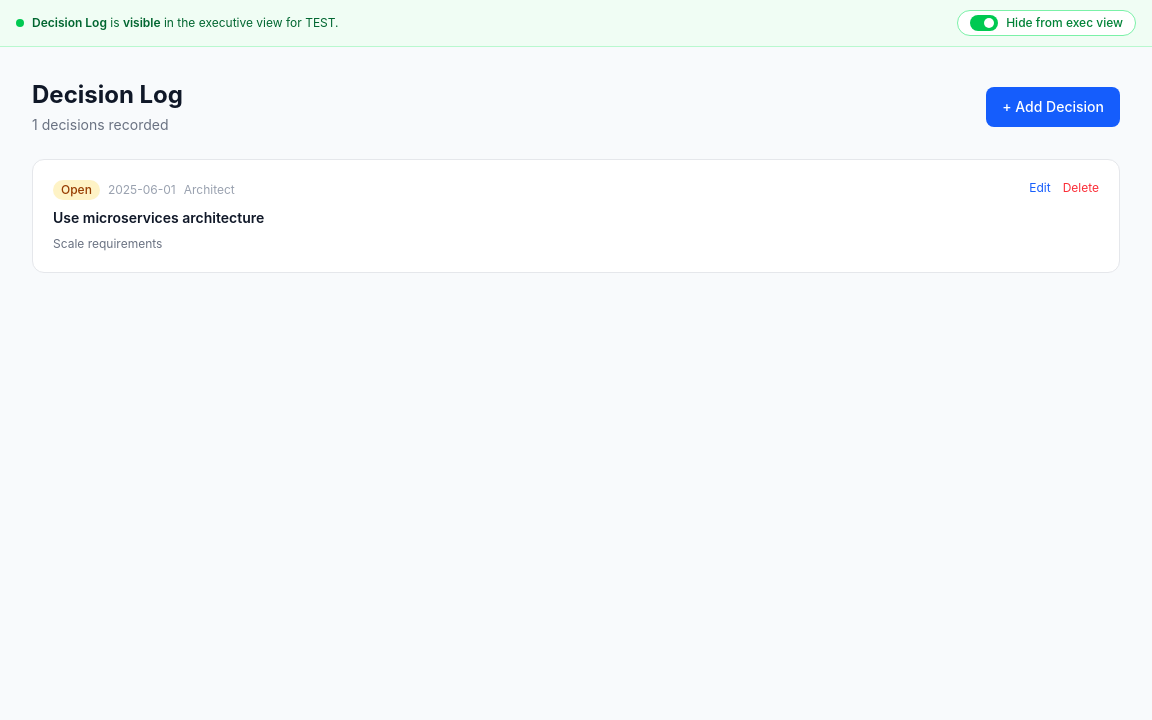
Test: DecisionEditor › T-37.06: Edit button opens modal for existing decision
Expected: the text "Use microservices architecture" is shown, x1=53 y1=209 x2=264 y2=226
Click the button "Edit": click(1040, 188) x1=1029 y1=180 x2=1051 y2=196
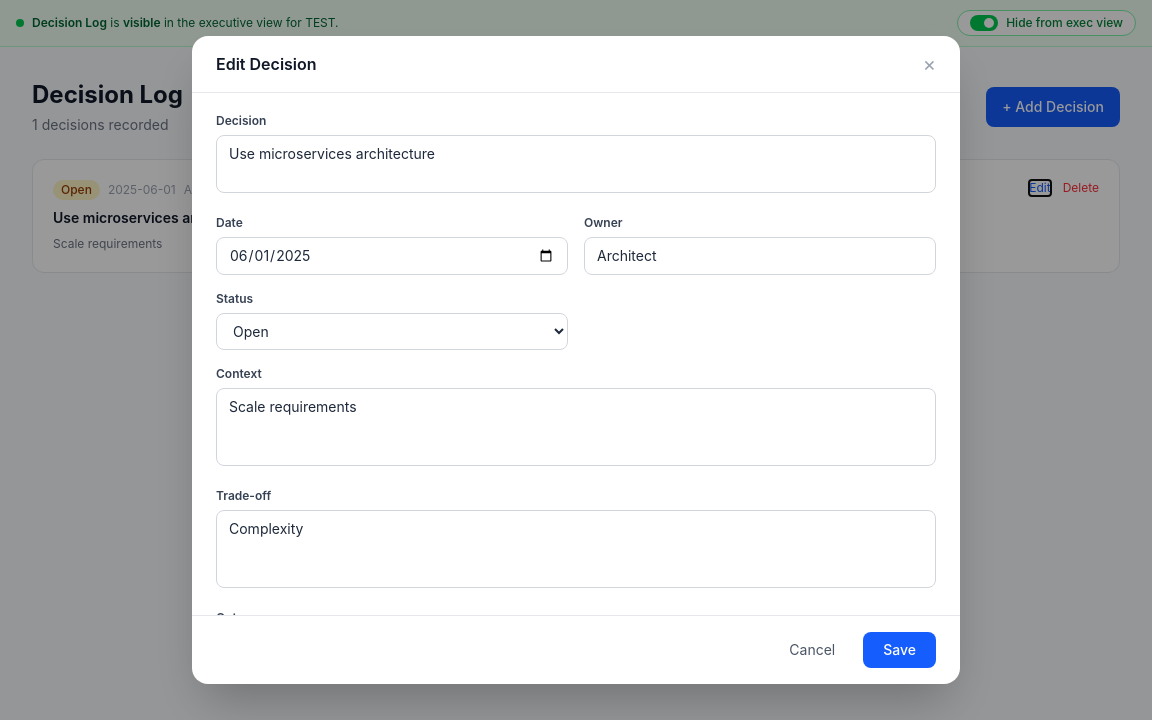
Now the heading "Edit Decision" is shown, box x1=216 y1=52 x2=317 y2=76
